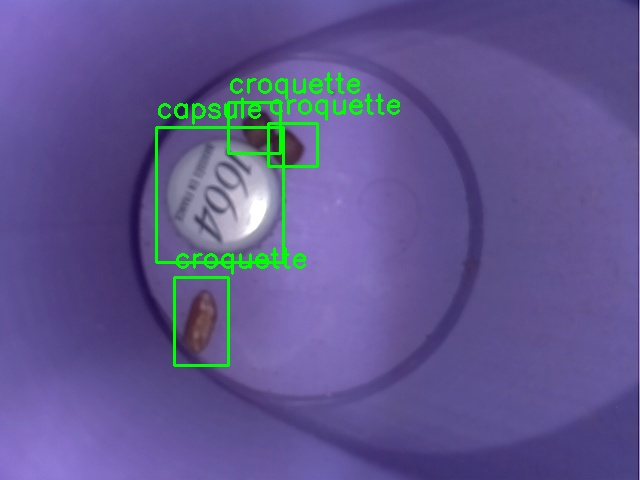capsule: (156, 127, 283, 262)
croquette: (174, 277, 228, 365), (228, 102, 280, 153), (268, 123, 317, 166)
